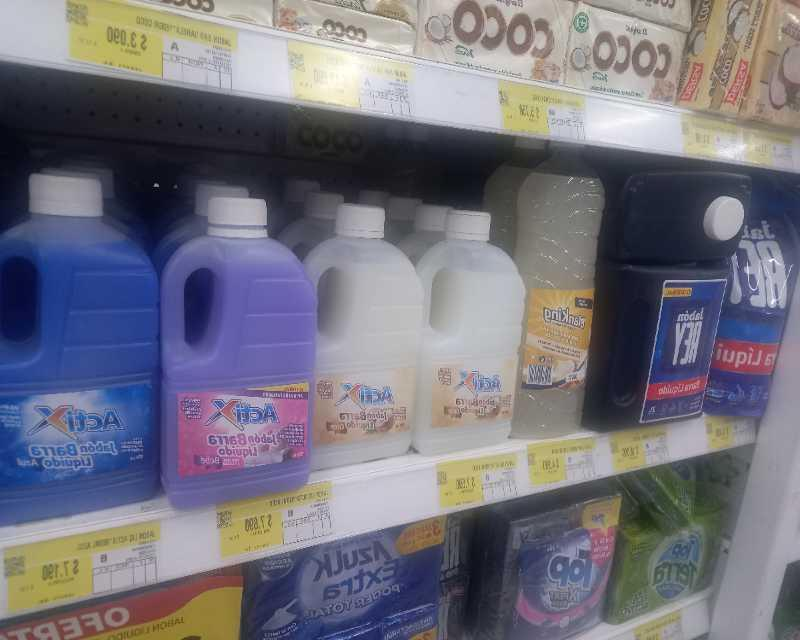ACTIX-AZUL-BOTELLA-950_1: (1, 167, 168, 523)
ACTIX-BEBE-BOTELLA-950_2: (163, 200, 312, 503)
REY-BOTELLA-2L: (580, 261, 734, 436)
